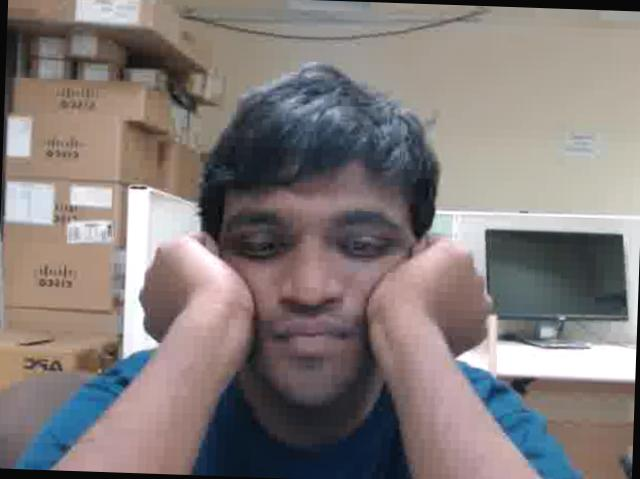bosan: (216, 148, 428, 412)
